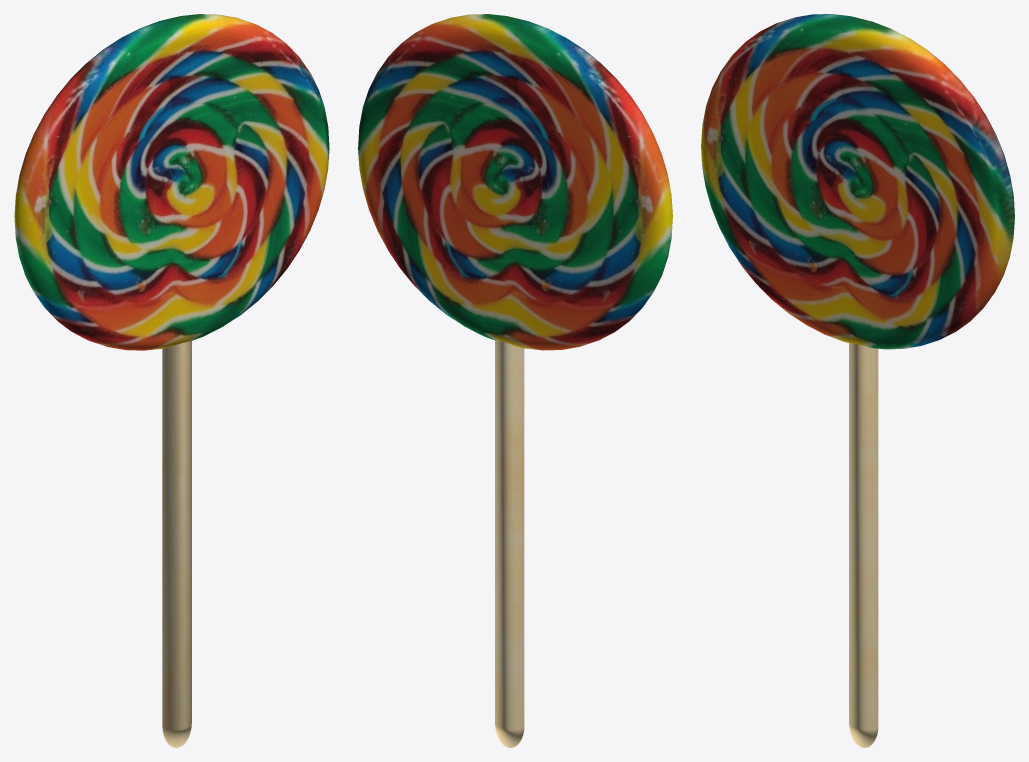
Rendered from candy_lollipop.fbx.
3 views of the same model, side by side, from view 1: azimuth 30°, elevation 25°; view 2: azimuth 150°, elevation 25°; view 3: azimuth 330°, elevation 25° (orthographic).
Parts seen in each view (by area): view 1: candy_lollipop, candy_lollipop_ste; view 2: candy_lollipop, candy_lollipop_ste; view 3: candy_lollipop, candy_lollipop_ste.
Part boxes in pixels (bbox=[...]): candy_lollipop: bbox=[14, 14, 329, 350]; candy_lollipop_ste: bbox=[162, 341, 191, 747]; candy_lollipop: bbox=[358, 14, 672, 350]; candy_lollipop_ste: bbox=[495, 340, 524, 747]; candy_lollipop: bbox=[701, 14, 1014, 349]; candy_lollipop_ste: bbox=[849, 343, 878, 747].
Bounding box in the file's own units: 27.13 × 60.64 × 2.24.
2 materials, 2 textured.
